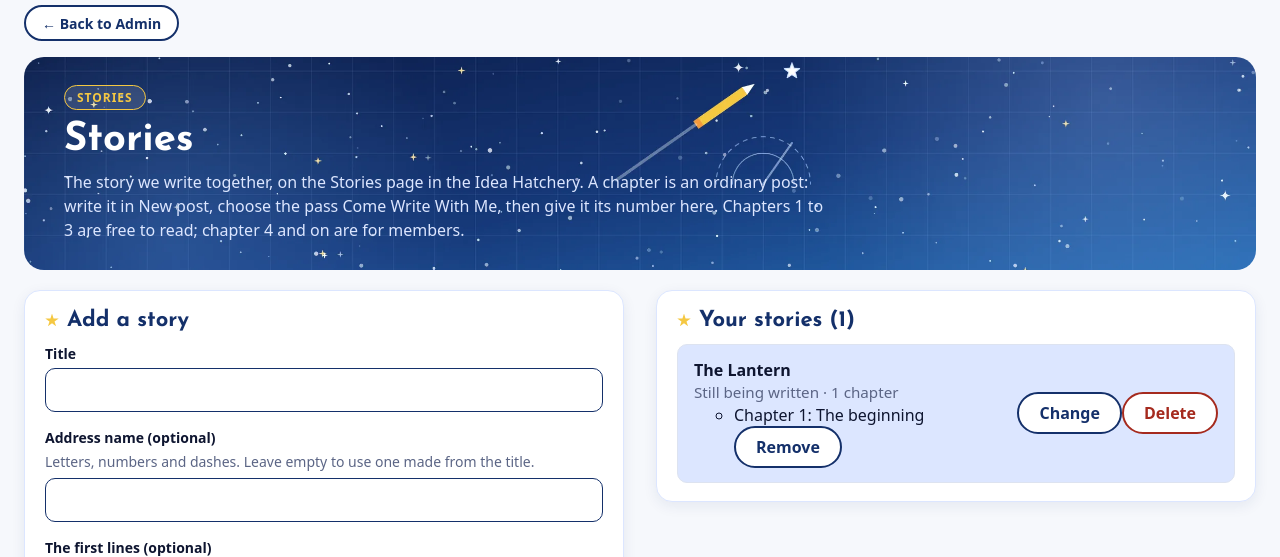
Scenario: adding and changing a story › changes an existing story: its details come into the form, and saving updates that story
Click the button "Change": x=1070, y=413 [1018,392,1122,434]
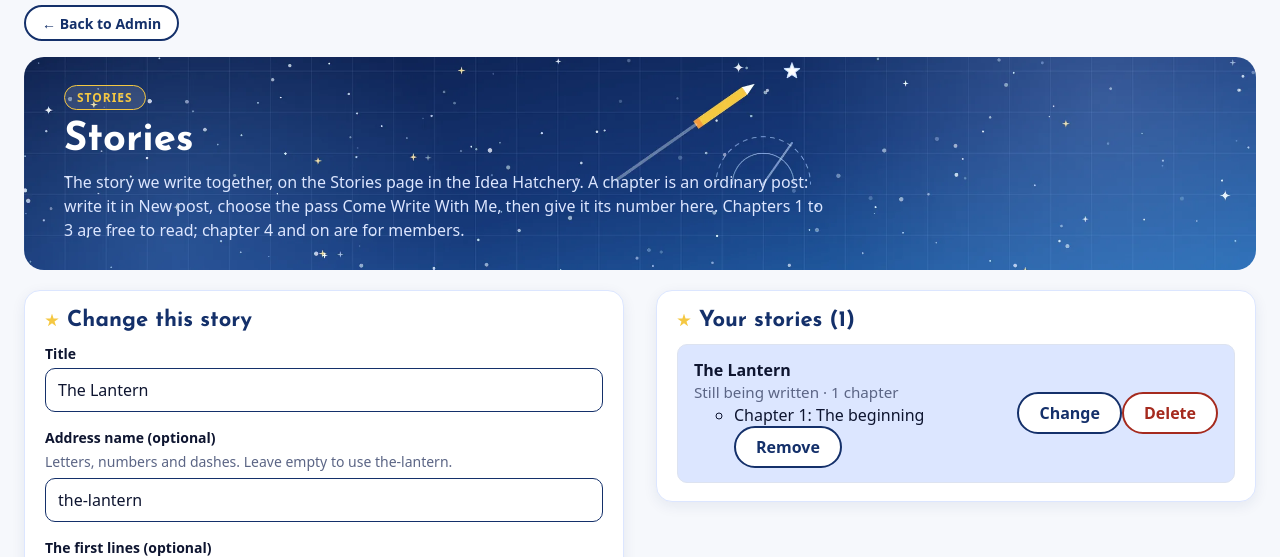
Result: the field labelled "Title" holds "The Lantern"
Result: the heading "Change this story" is shown at [67,309,252,332]
Replace the text in the field labelled "Title" with "The Lantern Returns": x=324, y=390 [45,368,603,412]
(page scrolled)
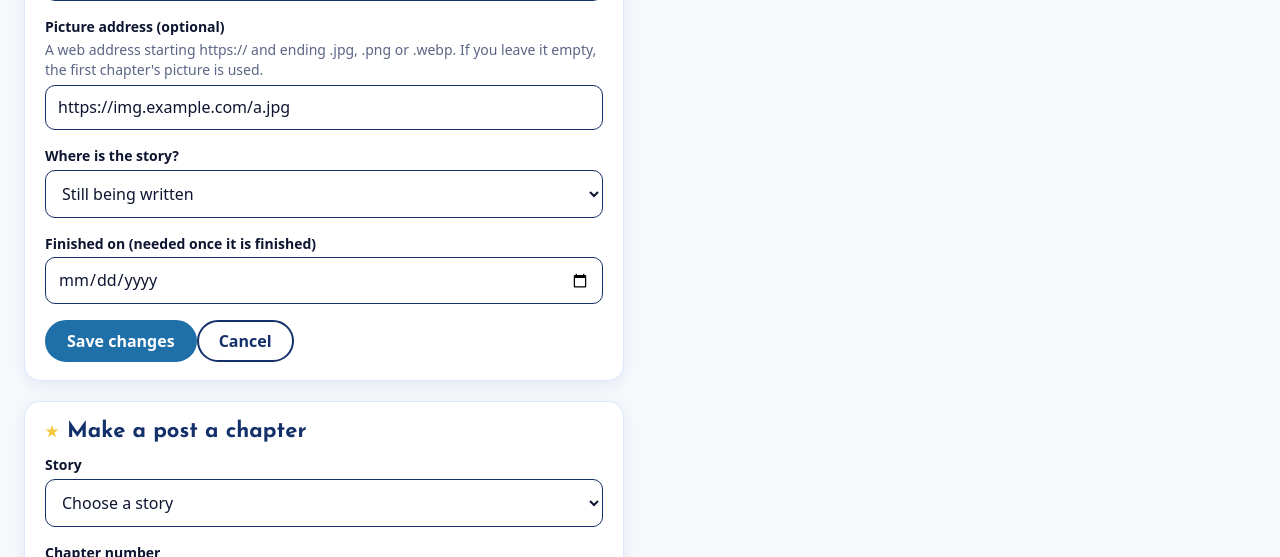
Click the button "Save changes": x=121, y=341 [45,320,197,362]
(page scrolled)
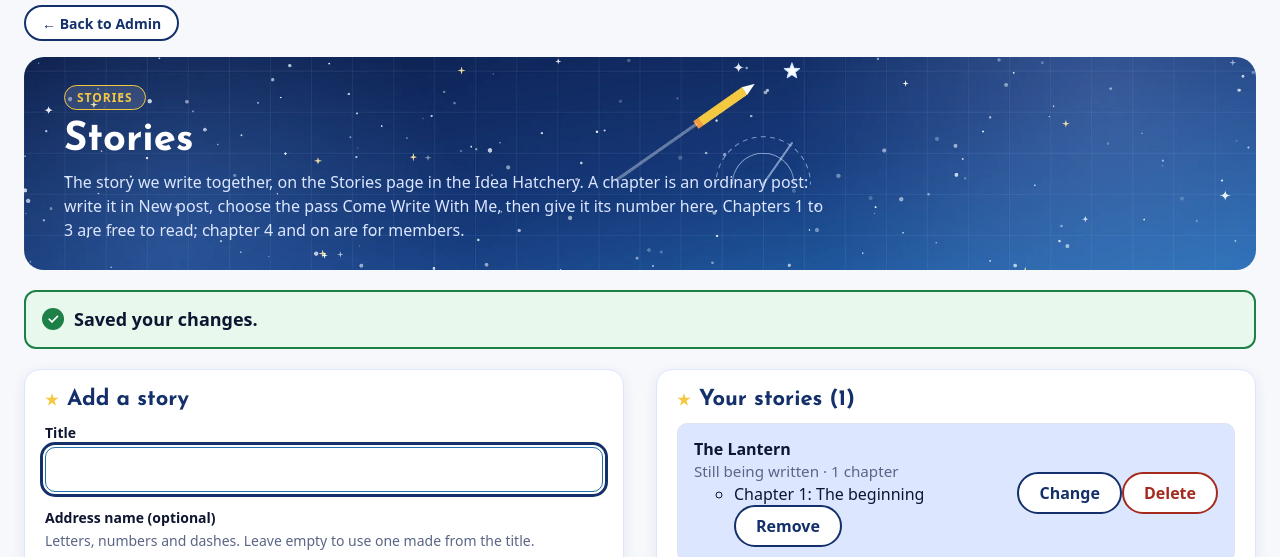
Result: the text "Saved your changes." is shown at [74,308,258,331]
